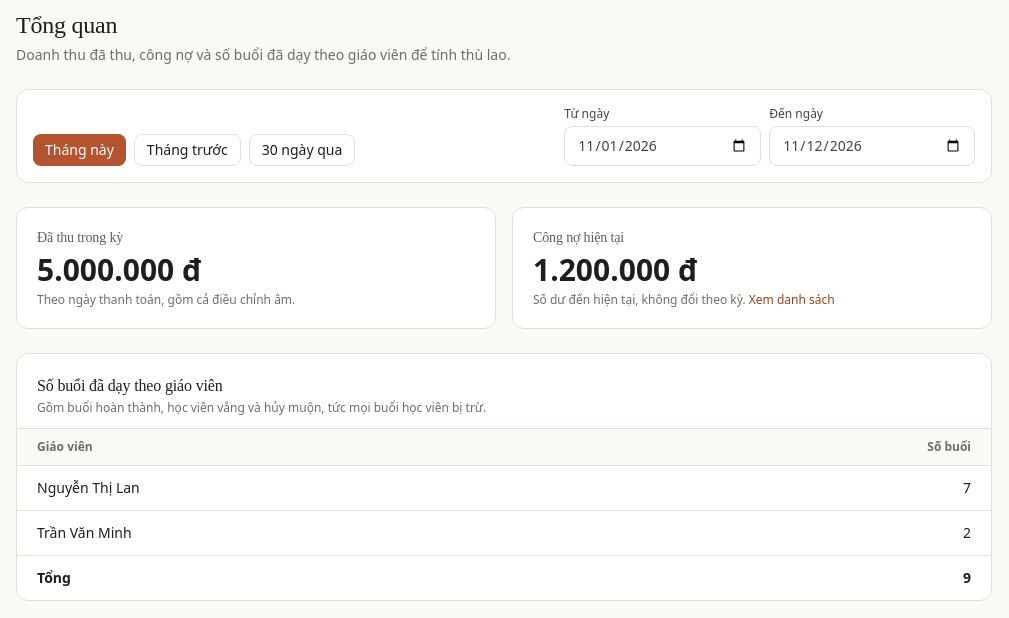
Test: DashboardPage › xóa một ngày: nhắc chọn đủ
Clear the date field labelled "Đến ngày" at point(872, 146), box [769,126,975,166]
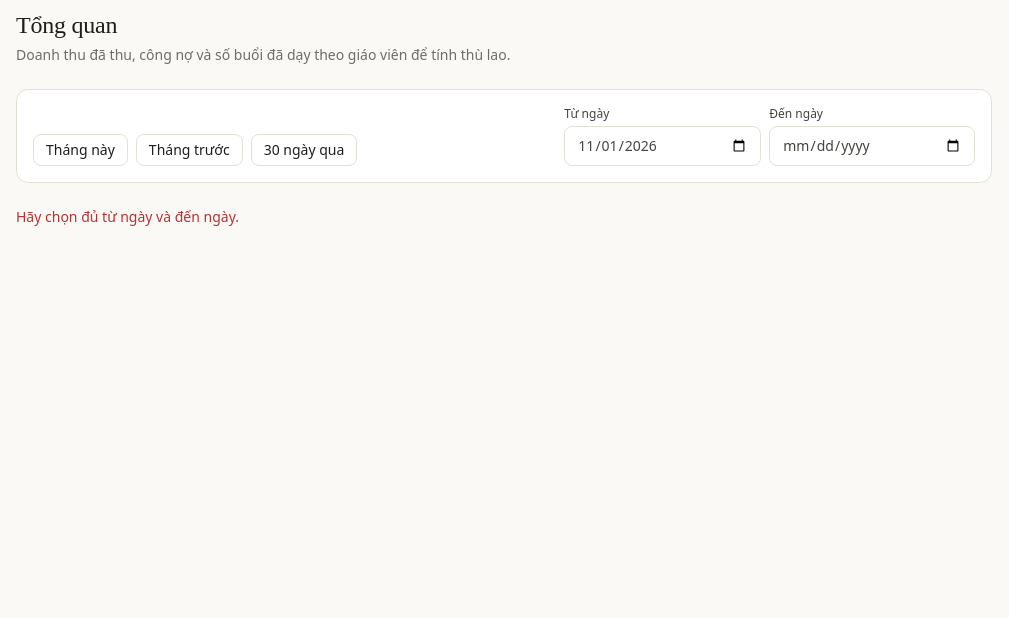
Expected: the message reads "Hãy chọn đủ từ ngày và đến ngày.", [16,207,239,226]
